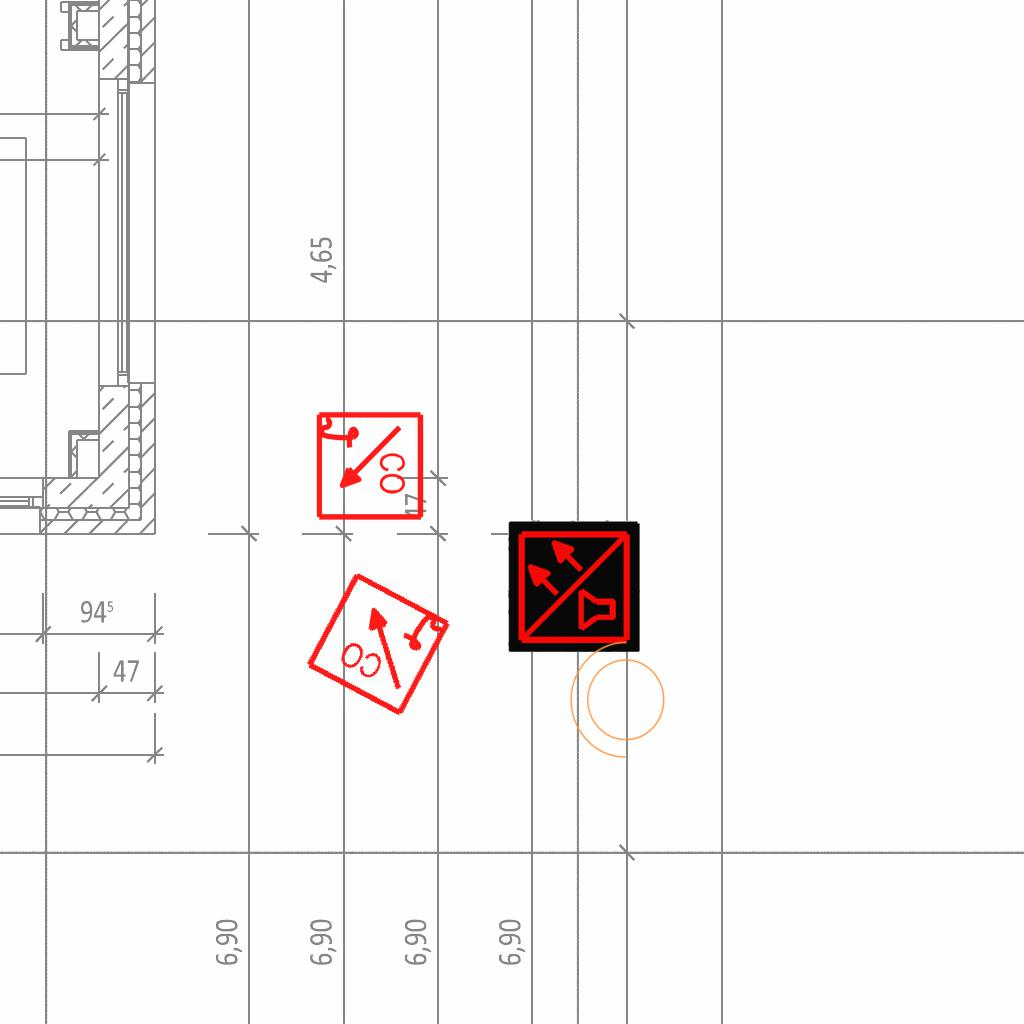OKW_Multisensormelder_(Kombination_optischer_Rauch-Kahlenmonoxid_Waerme-Melder): (508, 520, 640, 652)
ROA_Rauchmelder_optisch_mit_Signalgeber_(Sockelsirene): (302, 566, 455, 719), (312, 410, 425, 523)
Scheinwerfer_fuer_Alarmbeleuchtung: (565, 637, 677, 769)
